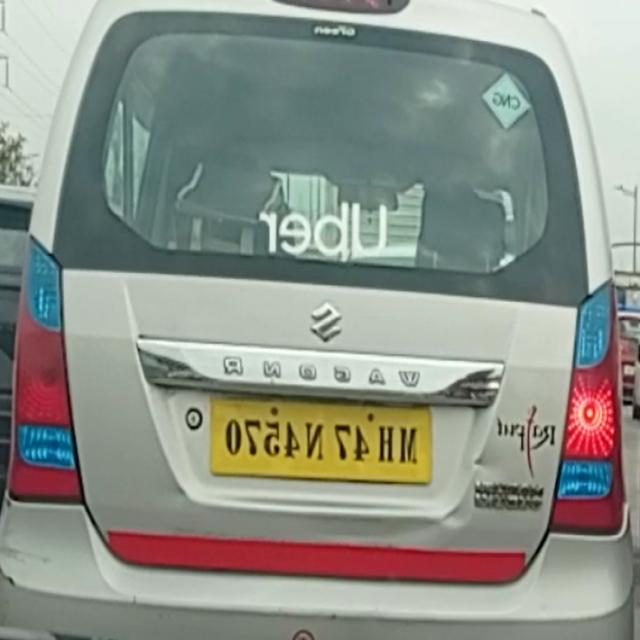license_plate: (206, 390, 435, 489)
